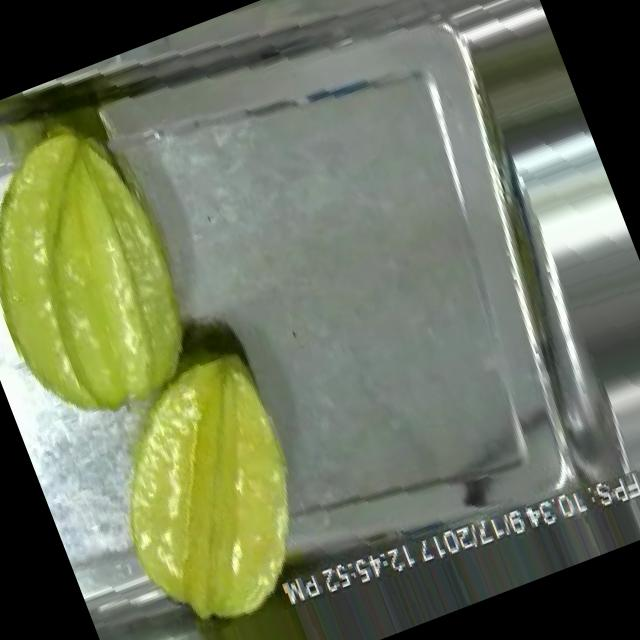fruit: (66, 325, 349, 640), (0, 89, 238, 458)
